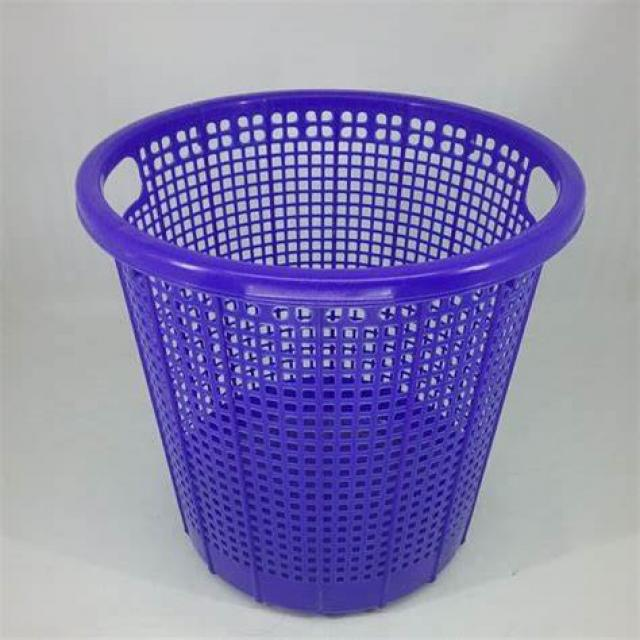Dustbin: (55, 71, 592, 623)
